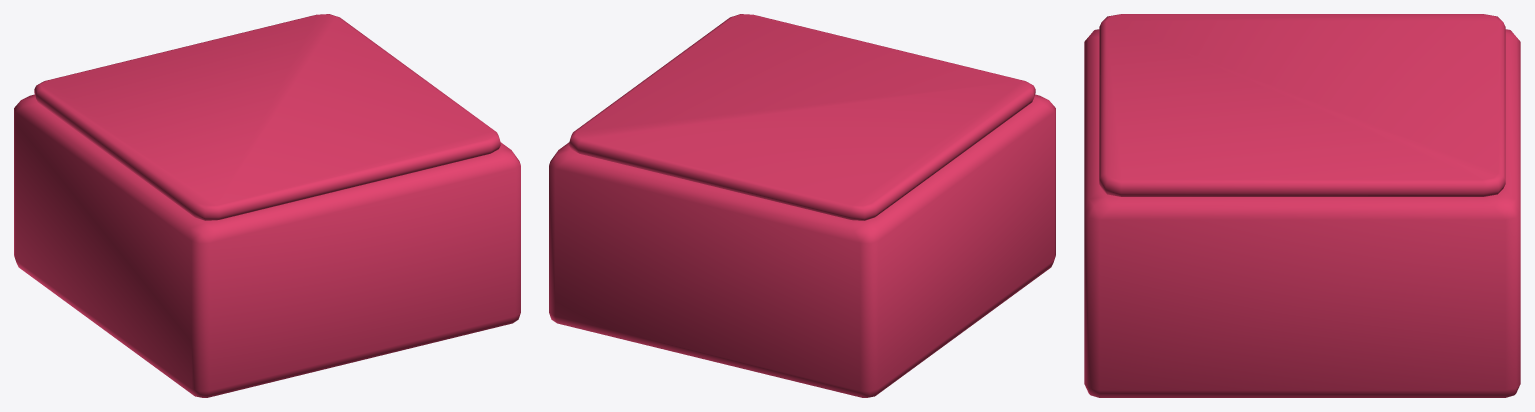
The model's file is Block-O-Pink.fbx.
3 views of the same model, side by side, from view 1: azimuth 30°, elevation 25°; view 2: azimuth 150°, elevation 25°; view 3: azimuth 270°, elevation 25° (orthographic). The views are drawn at different scales.
Visible parts, largest first — view 1: Block-O-Pink, Cube.029; view 2: Block-O-Pink, Cube.029; view 3: Block-O-Pink, Cube.029.
Boxes of the visible parts, left/top/right/bottom form: Block-O-Pink: left=14, top=94, right=520, bottom=397; Cube.029: left=34, top=14, right=500, bottom=220; Block-O-Pink: left=549, top=94, right=1055, bottom=397; Cube.029: left=569, top=14, right=1035, bottom=220; Block-O-Pink: left=1084, top=29, right=1520, bottom=397; Cube.029: left=1099, top=14, right=1505, bottom=196.
Bounding box in the file's own units: 100 × 54.24 × 100.
